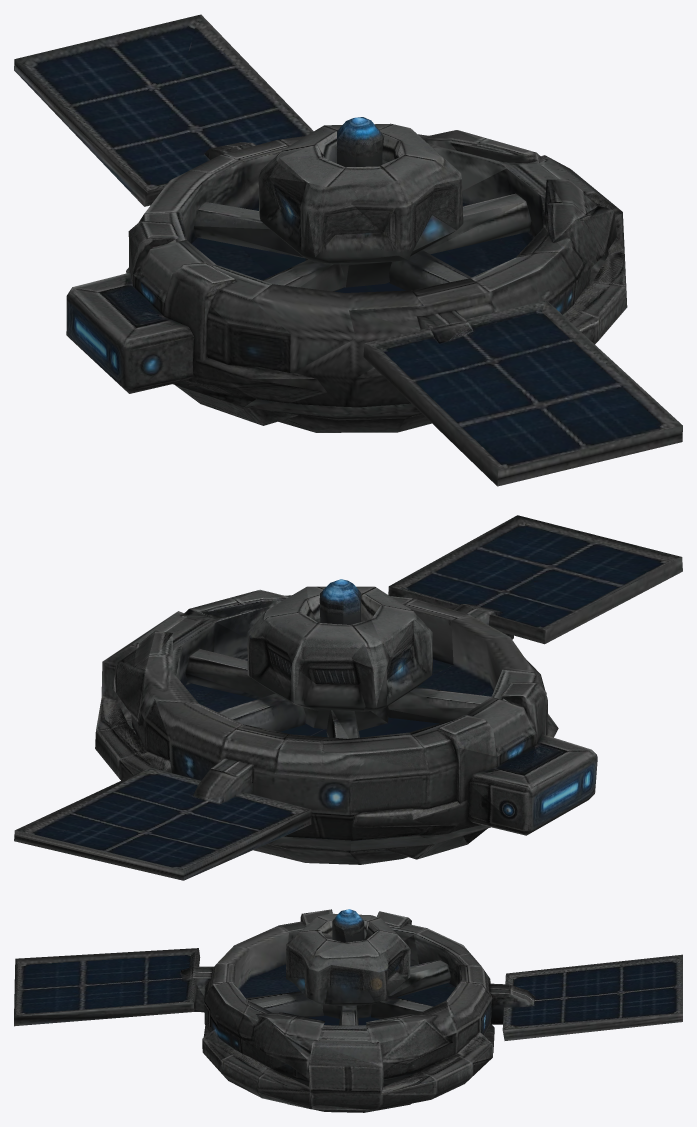
File: sattelite_1.glb
3 views of the same model, one above another, from view 1: azimuth 30°, elevation 25°; view 2: azimuth 150°, elevation 25°; view 3: azimuth 270°, elevation 25° (orthographic). The views are drawn at different scales.
Parts seen in each view (by area): view 1: mesh_node; view 2: mesh_node; view 3: mesh_node.
Boxes of the visible parts, left/top/right/bottom form: mesh_node: left=14, top=14, right=682, bottom=486; mesh_node: left=14, top=515, right=682, bottom=880; mesh_node: left=14, top=909, right=682, bottom=1112.
Size of the model in its own units: 0.5566 by 0.2695 by 1.
Materials: 1 (1 with a texture image).
